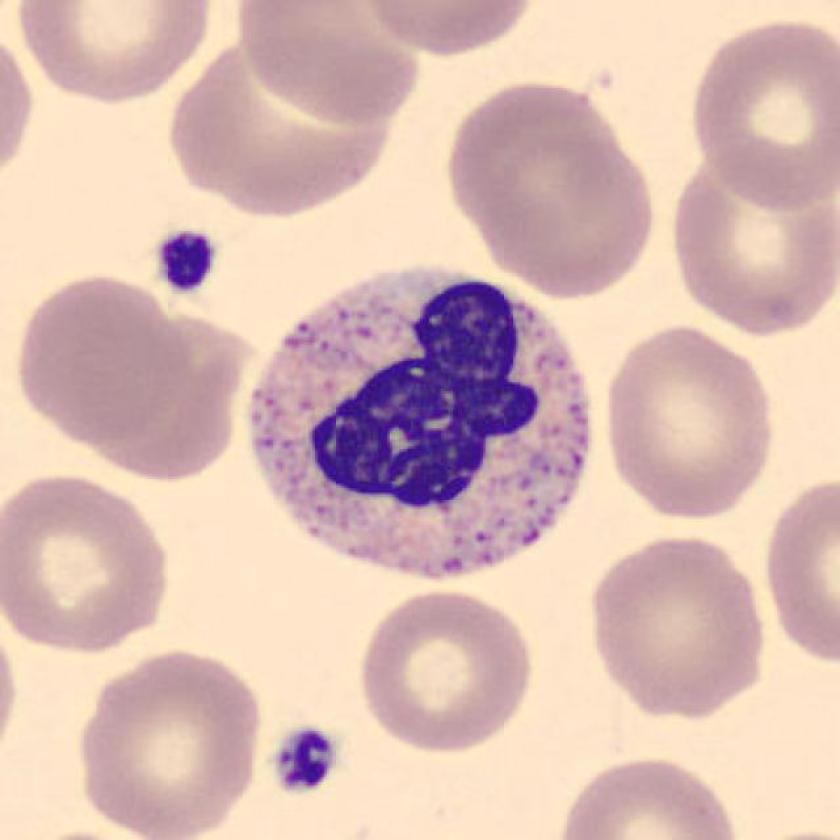neutrophil: (254, 266, 589, 575)
